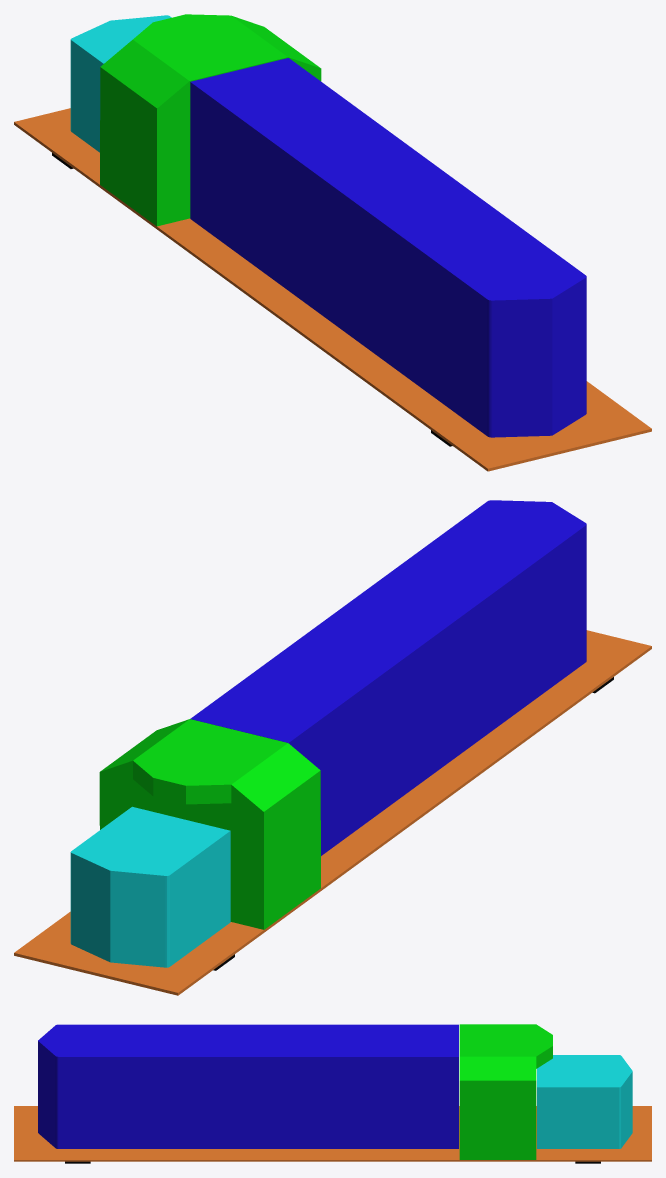
Rendered from engine_1.fbx.
3 views of the same model, one above another, from view 1: azimuth 30°, elevation 25°; view 2: azimuth 150°, elevation 25°; view 3: azimuth 270°, elevation 25° (orthographic). The views are drawn at different scales.
Parts seen in each view (by area): view 1: cab.001; view 2: cab.001; view 3: cab.001.
Part boxes in pixels (<box>): cab.001: <box>14,14,651,471</box>; cab.001: <box>14,500,651,995</box>; cab.001: <box>14,1024,651,1163</box>.
Size of the model in its own units: 305 by 284 by 1524.
